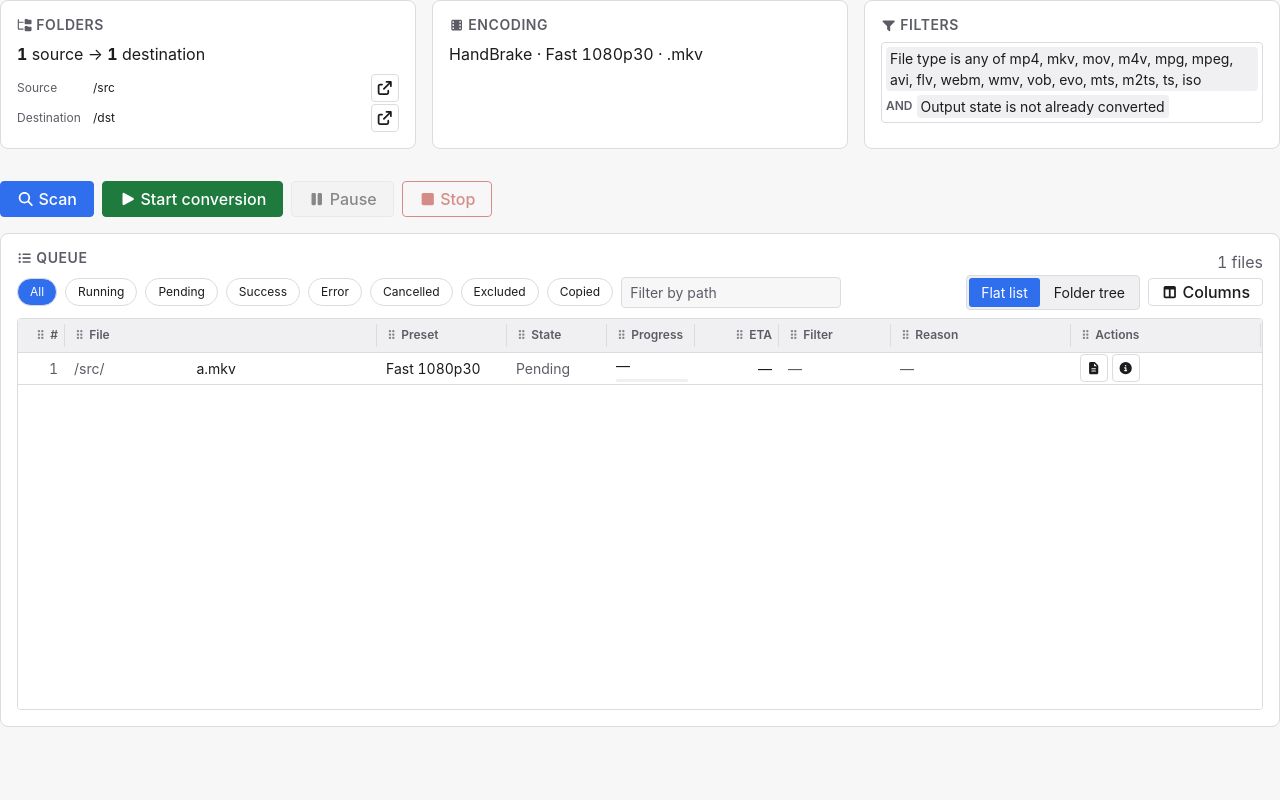
Test: RunScreen rescan confirmation › warns before replacing populated scan data
Click the button "Scan". click: (47, 199)
box: [0,181,94,217]
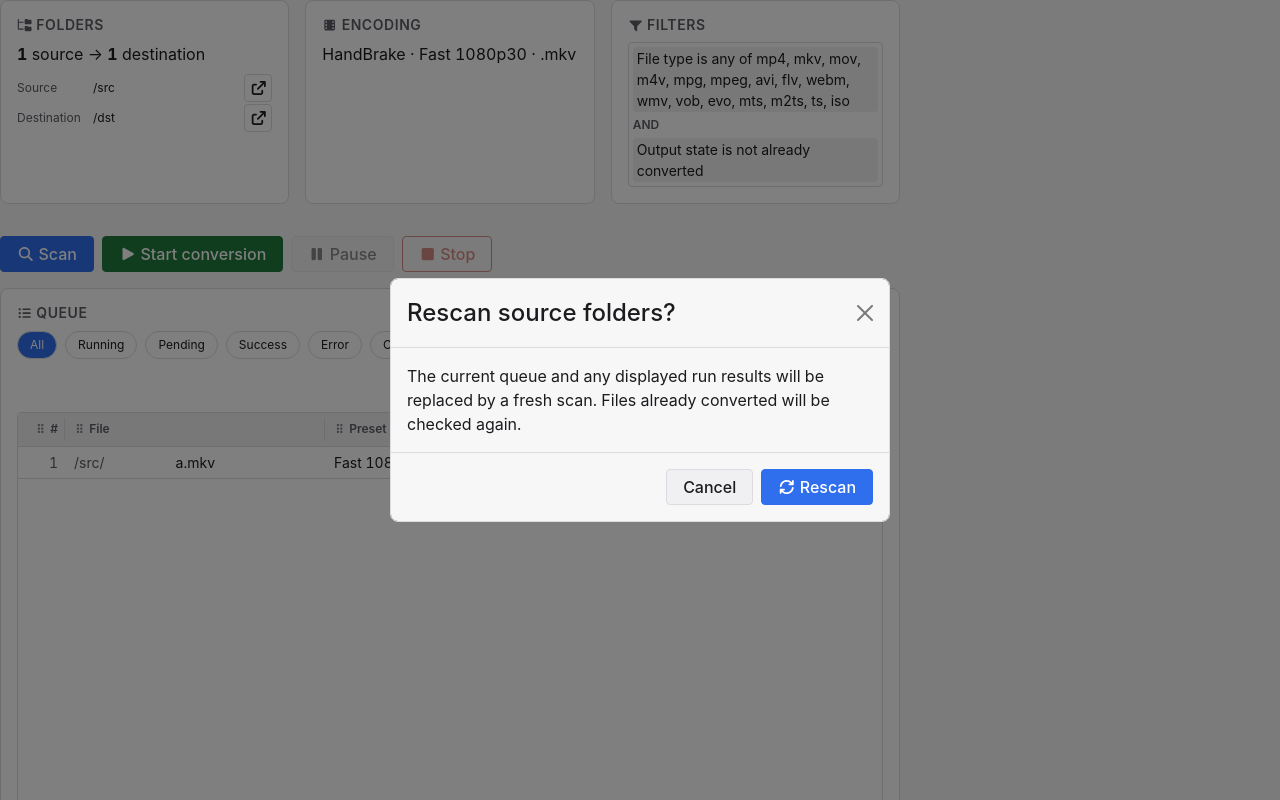
Expected: the text "Rescan source folders?" is shown, [407,295,676,331]
Expected: the text "will be replaced by a fresh scan" is shown, [407,366,830,434]
Click the button "Cancel". click: (710, 487)
box: [666,469,753,505]
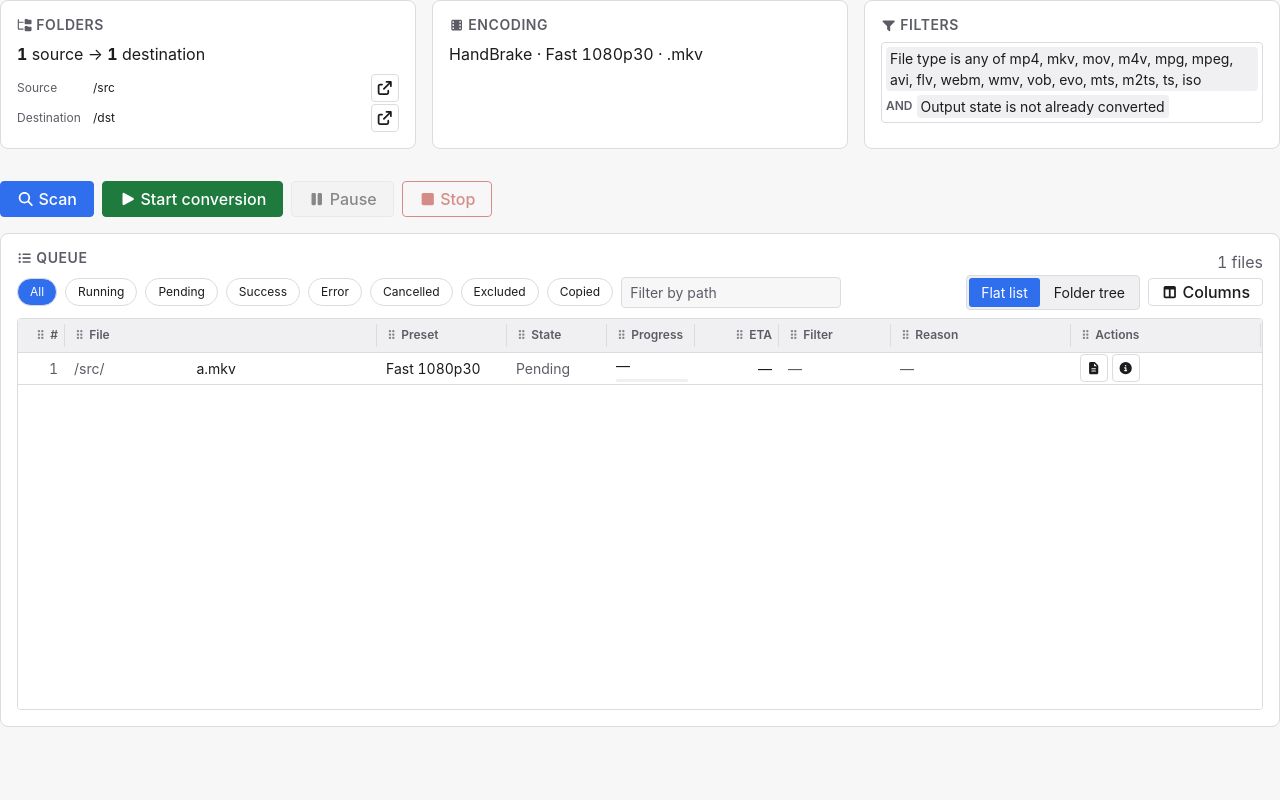
Expected: the text "Rescan source folders?" is gone
